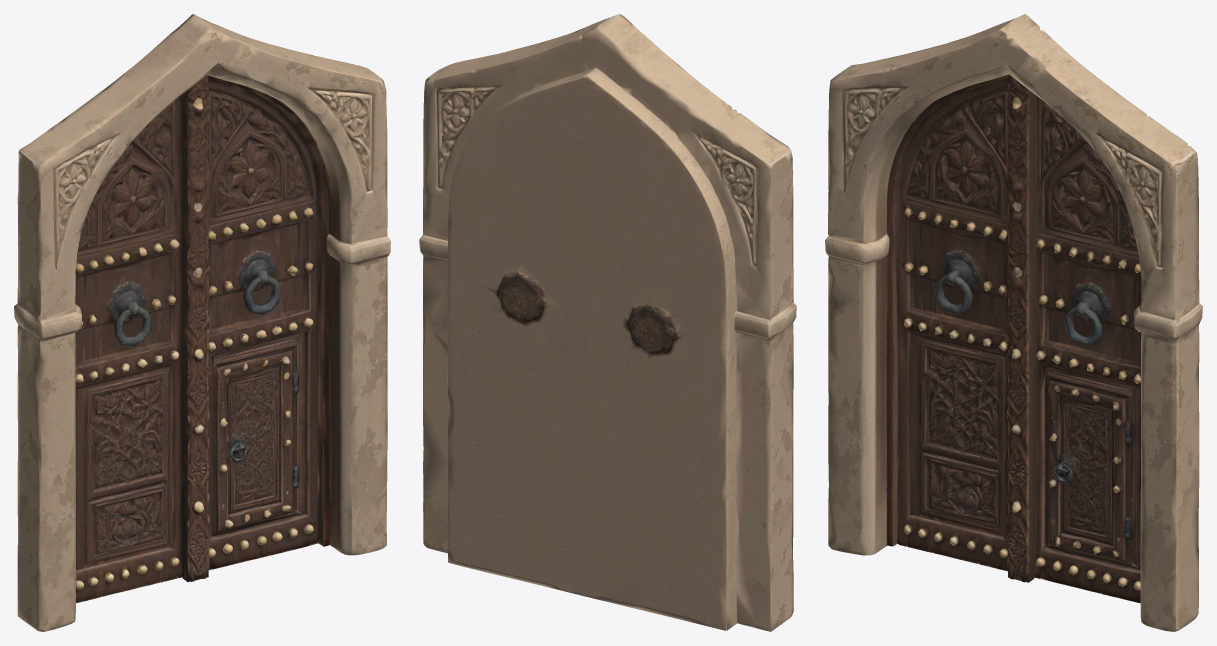
Rendered from majlis_door.glb.
3 views of the same model, side by side, from view 1: azimuth 30°, elevation 25°; view 2: azimuth 150°, elevation 25°; view 3: azimuth 330°, elevation 25° (orthographic).
Size of the model in its own units: 0.6521 by 0.9805 by 0.1201.
1 material, 1 textured.
